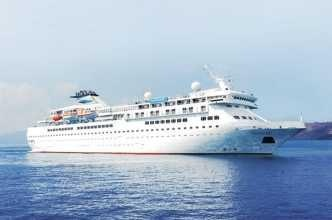youlun: (24, 69, 308, 153)
